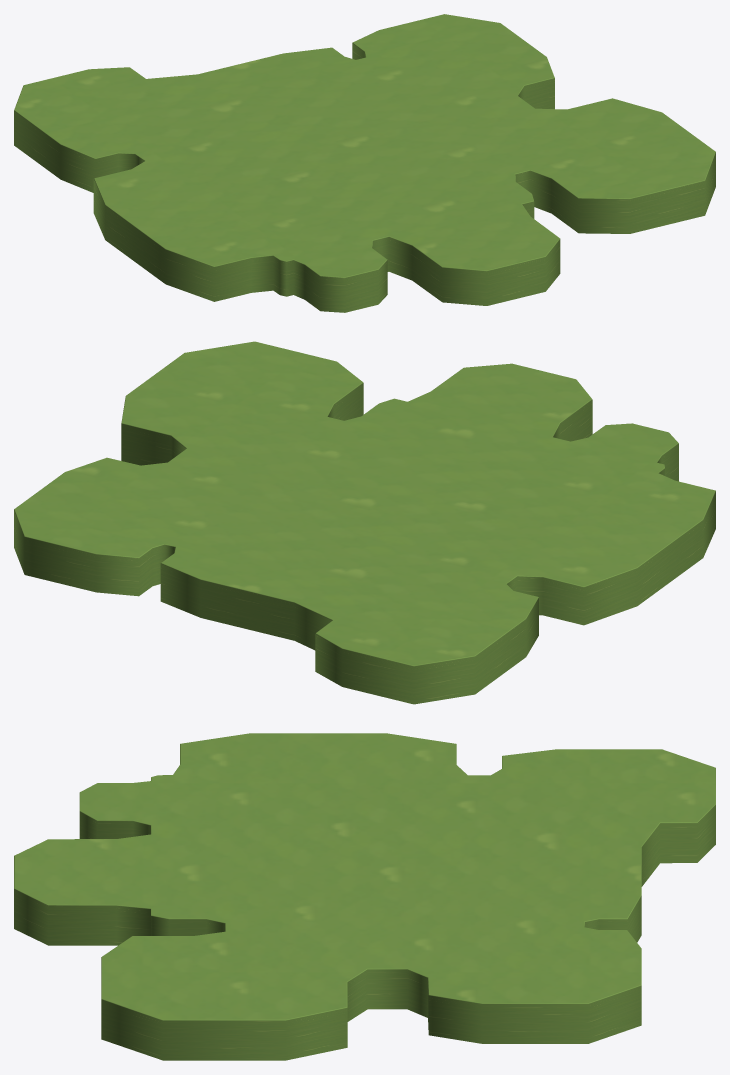
File: glitchy1.glb
The picture shows the model from 3 angles, top to bottom: view 1: azimuth 30°, elevation 25°; view 2: azimuth 150°, elevation 25°; view 3: azimuth 270°, elevation 25°; orthographic projection. The views are drawn at different scales.
Parts seen in each view (by area): view 1: geometry_0; view 2: geometry_0; view 3: geometry_0.
Boxes of the visible parts, <box> form: geometry_0: <box>14,14,715,312</box>; geometry_0: <box>14,341,715,704</box>; geometry_0: <box>14,733,715,1060</box>.
Bounding box in the file's own units: 91.02 × 6 × 94.14.
Materials: 1 (1 with a texture image).
